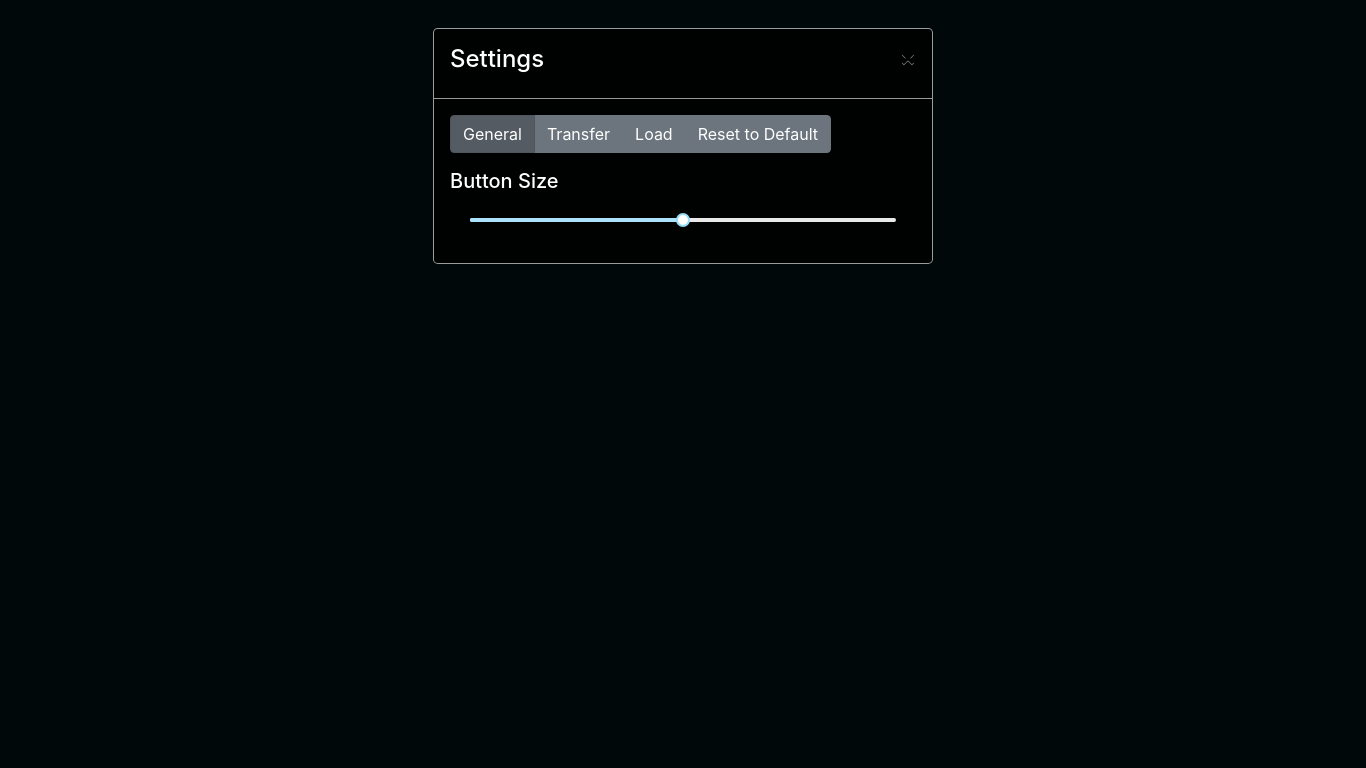
Test case: should render load tab on load button click
The width and height of the screenshot is (1366, 768).
What coordinates should you click on to do the following:
click the text "Load"
I would click on:
 (654, 134)
Its box is [622,115,686,153].
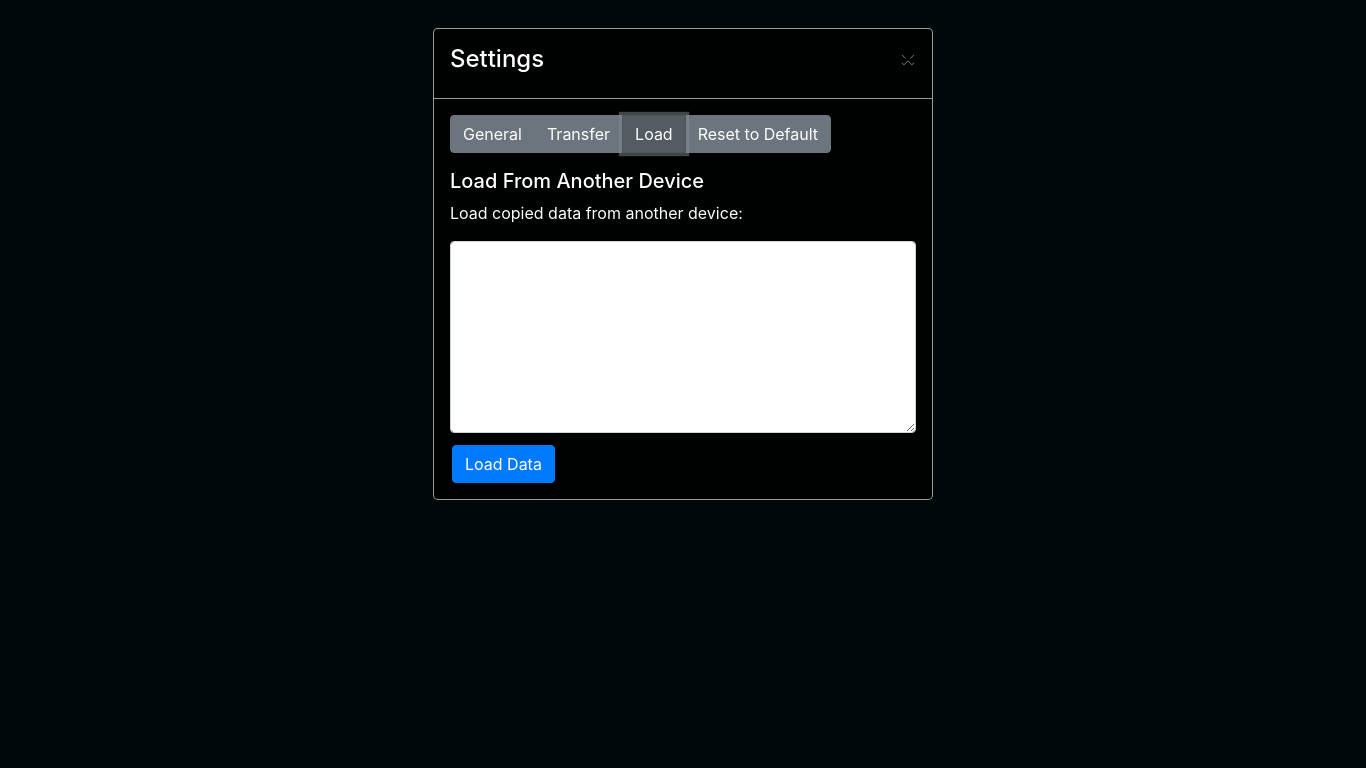
Expected: the heading "Load From Another Device" is shown, [450,169,704,193]
